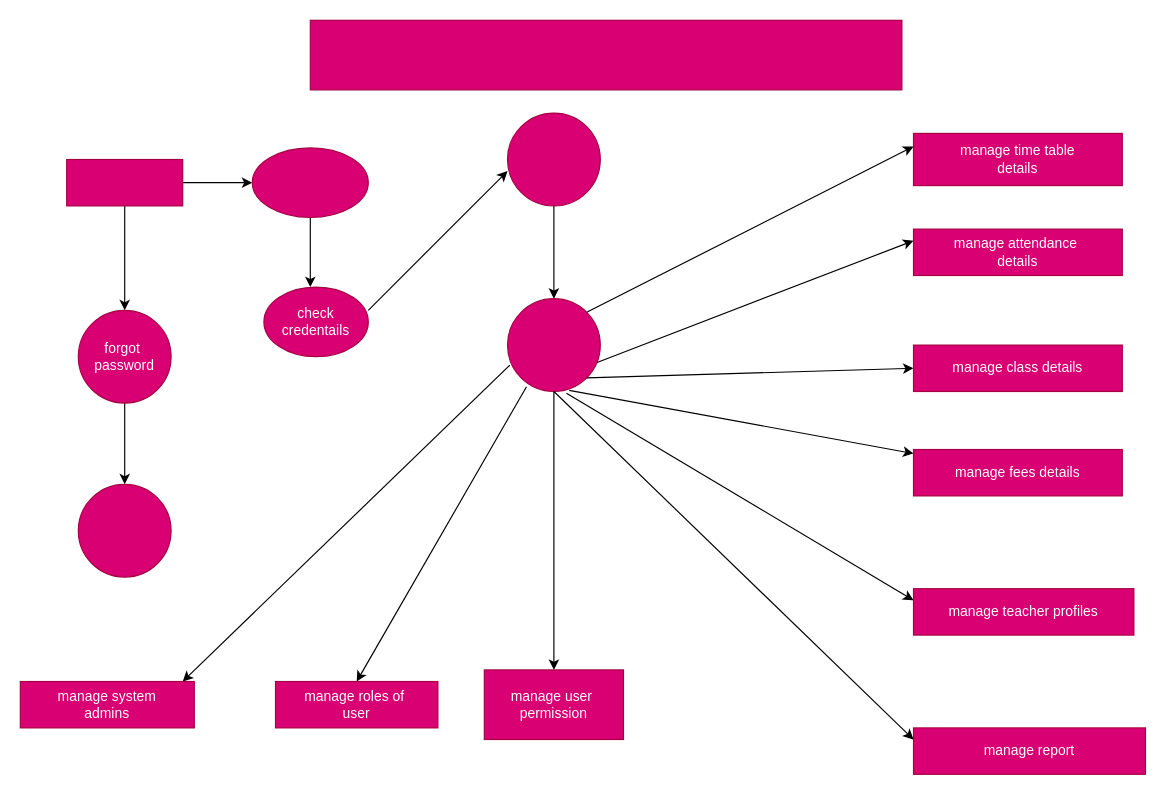
The diagram is 1166 pixels wide and 795 high, and some of its shapes have lost their labels. Each missing label, with the centre of its shape:
"Admin" belongs at (x=124, y=182).
"check roles of acess" belongs at (x=553, y=159).
"login to system" belongs at (x=309, y=182).
"manage mobiles" belongs at (x=553, y=345).
"send email to user" belongs at (x=124, y=530).
"STUDENT INFORMATION DETAILS" belongs at (x=605, y=54).
